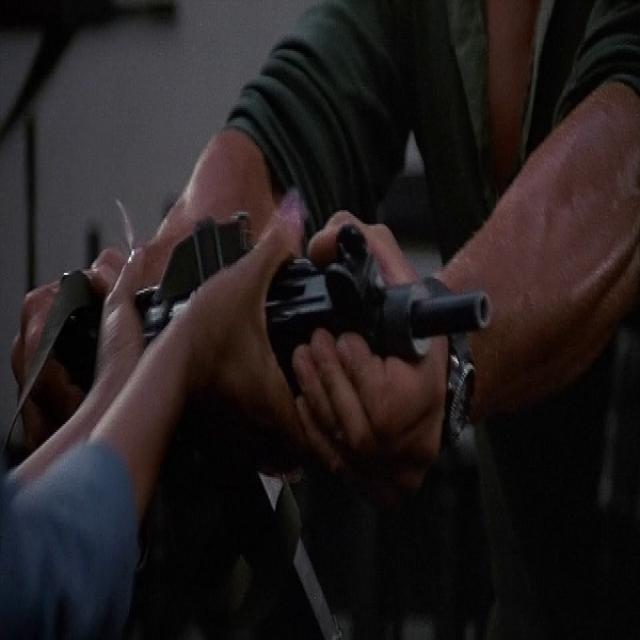rifle: (36, 197, 504, 496)
